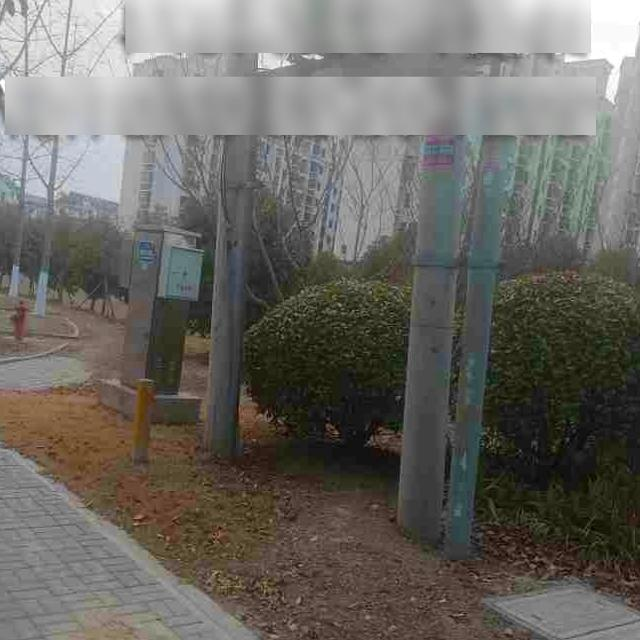good: (487, 581, 640, 640)
